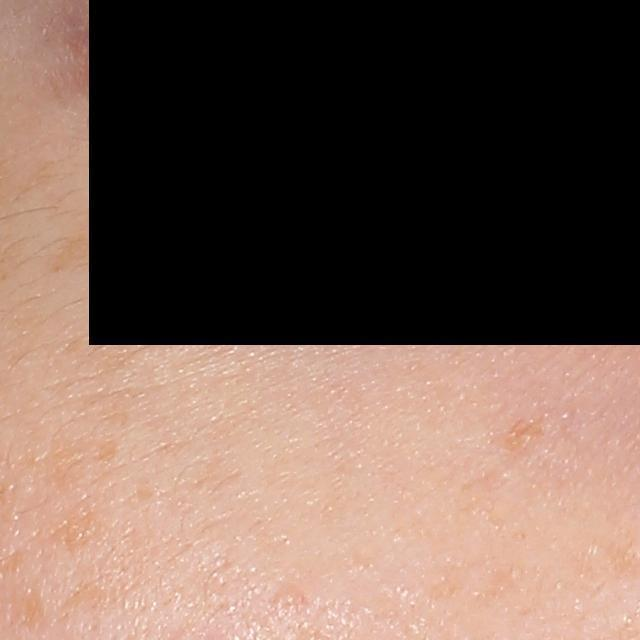melasma: (26, 428, 122, 493), (55, 569, 133, 621), (39, 225, 105, 277), (494, 409, 549, 461), (63, 496, 106, 554), (17, 580, 53, 637)
